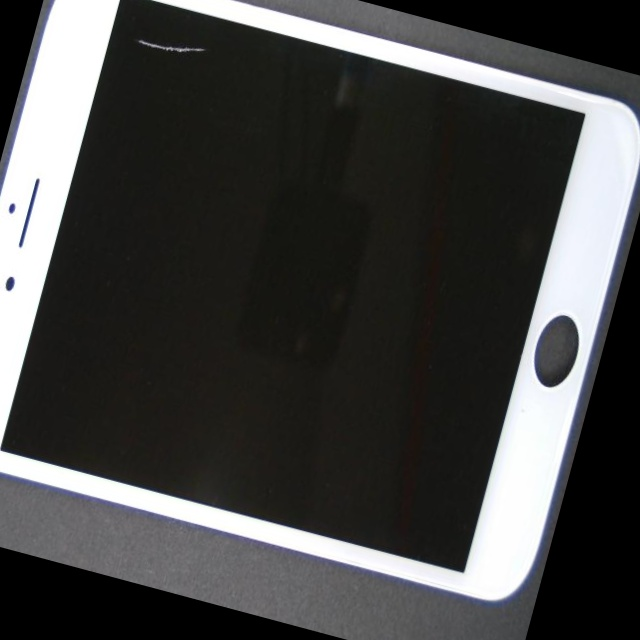scratch: (161, 0, 267, 90)
